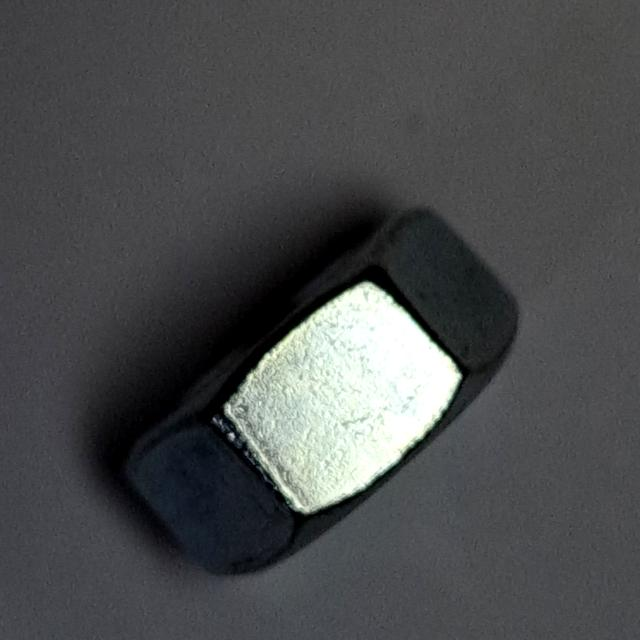Side_Excellent: (105, 188, 529, 593)
